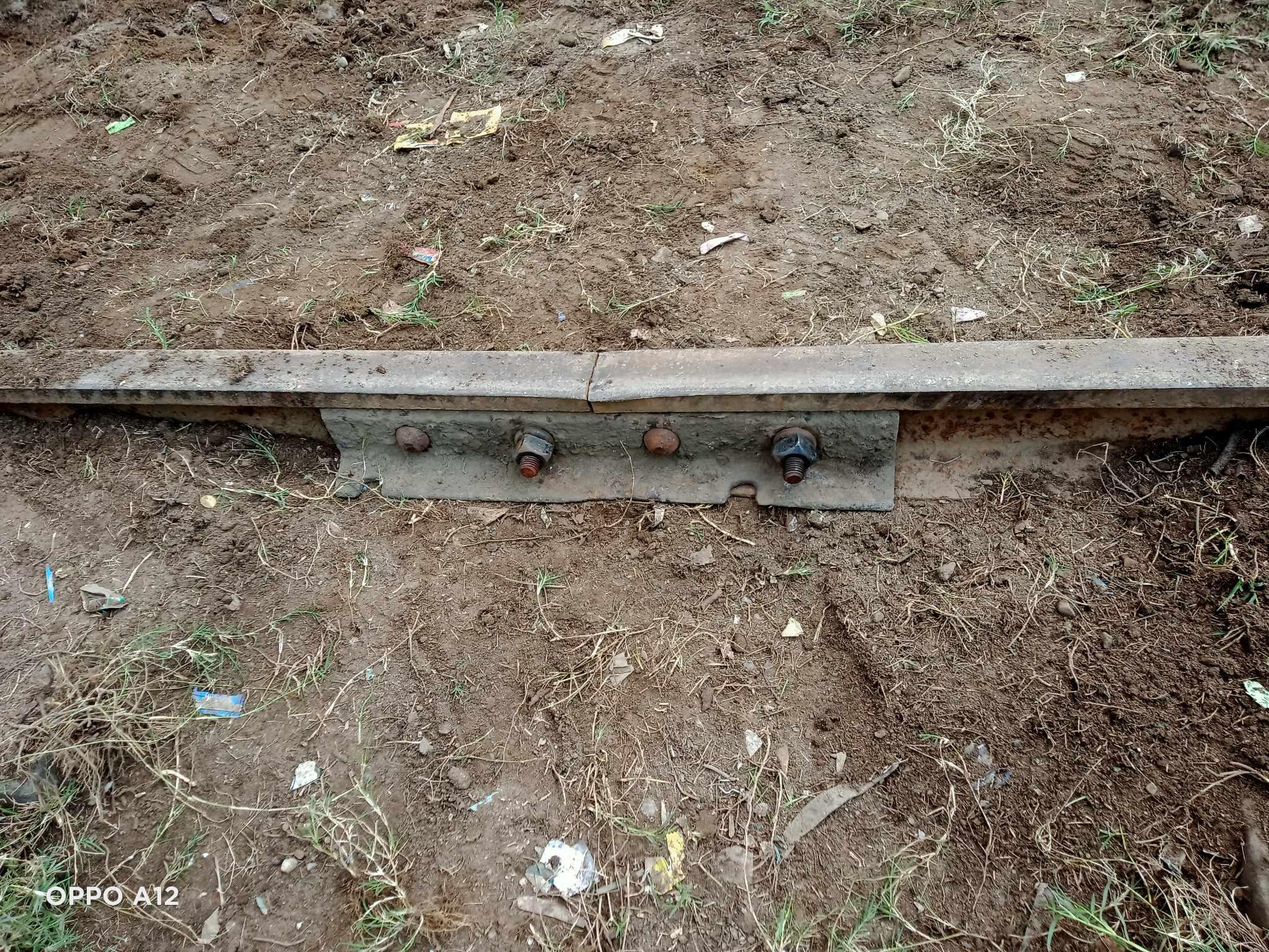railway-gap: (544, 335, 639, 431)
